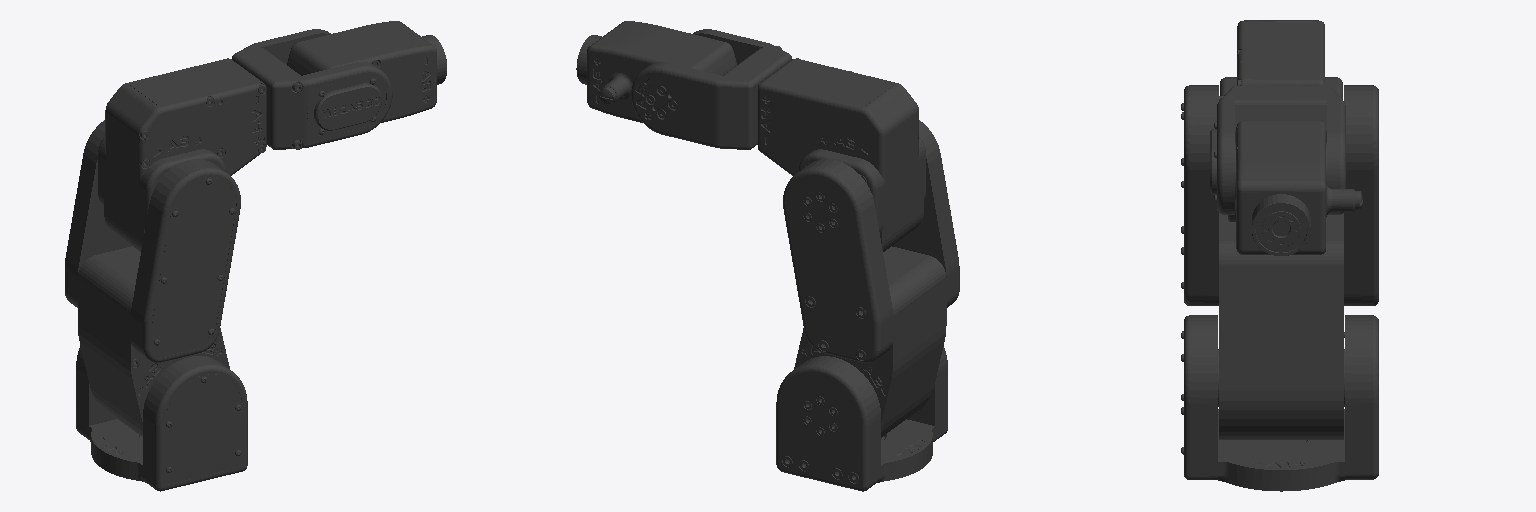
robot.urdf — meca_500_r3:
<?xml version="1.0" encoding="utf-8"?>

<robot name="meca_500_r3">

  <!-- Materials -->
  <material name="meca_black">
    <color rgba="0 0 0 1" />
  </material>
  <material name="meca_silver">
    <color rgba="0.3 0.3 0.3 1" />
  </material>

  <!-- world frame -->
  <!-- NOTE: defined as the location halfway between the 2 robots, which is consequently the x position of the -->
  <!-- middle scaffolding rail. Here I use -250 mm because I am defining robot1 in particular (left robot). -->
  <link name="world" />
  <joint name="meca_in_world" type="fixed" >
    <!-- Set base at world origin for sim alignment -->
    <origin xyz="0 0 0.0" rpy="0 0 0" />
    <parent link="world" />
    <child link="meca_base_link" />
    <axis xyz="0 0 1" />    
  </joint>

  <!-- Base link is the center of the robot's bottom plate -->
  <link name="meca_base_link">
    <visual>
      <origin xyz="0 0 0" rpy="0 0 0" />
      <geometry>
        <mesh filename="meshes/meca_500_r3_base.dae" />
      </geometry>
      <material name="meca_black"/>
    </visual>
    <collision>
      <origin xyz="0 0 0" rpy="0 0 0" />
      <geometry>
        <mesh filename="meshes/meca_500_r3_base_collision.stl" />
      </geometry>
    </collision>
  </link>

  <!-- Joint 1 -->
  <link name="meca_axis_1_link">
    <visual>
      <origin xyz="0 0 0" rpy="0 0 0" />
      <geometry>
        <mesh filename="meshes/meca_500_r3_j1.dae" />
      </geometry>
      <material name="meca_silver"/>
    </visual>
    <collision>
      <origin xyz="0 0 0" rpy="0 0 0" />
      <geometry>
        <mesh filename="meshes/meca_500_r3_j1_collision.stl" />
      </geometry>
    </collision>
  </link>

  <joint name="meca_axis_1_joint" type="revolute">
    <origin xyz="0.012498 0 0.091" rpy="0 0 0" />
    <parent link="meca_base_link" />
    <child link="meca_axis_1_link" />
    <axis xyz="0 0 1" />
    <limit effort="10.0" velocity="2.61799" lower="-3.05433" upper="3.05433" />
  </joint>

  <!-- Joint 2 -->
  <link name="meca_axis_2_link">
    <visual>
      <origin xyz="0 0 0" rpy="0 0 0" />
      <geometry>
        <mesh filename="meshes/meca_500_r3_j2.dae" />
      </geometry>
      <material name="meca_silver"/>
    </visual>
    <collision>
      <origin xyz="0 0 0" rpy="0 0 0" />
      <geometry>
        <mesh filename="meshes/meca_500_r3_j2_collision.stl" />
      </geometry>
    </collision>
  </link>

  <joint name="meca_axis_2_joint" type="revolute">
    <origin xyz="0 0 0.044" rpy="0 0 0" />
    <parent link="meca_axis_1_link" />
    <child link="meca_axis_2_link" />
    <axis xyz="0 1 0" />
    <limit effort="10.0" velocity="2.61799" lower="-1.22173048" upper="1.5708" />
  </joint>

  <!-- Joint 3 -->
  <link name="meca_axis_3_link">
    <visual>
      <origin xyz="0 0 0" rpy="0 0 0" />
      <geometry>
        <mesh filename="meshes/meca_500_r3_j3.dae" />
      </geometry>
      <material name="meca_silver"/>
    </visual>
    <collision>
      <origin xyz="0 0 0" rpy="0 0 0" />
      <geometry>
        <mesh filename="meshes/meca_500_r3_j3_collision.stl" />
      </geometry>
    </collision>
  </link>

  <joint name="meca_axis_3_joint" type="revolute">
    <origin xyz="0 0 0.135" rpy="0 0 0" />
    <parent link="meca_axis_2_link" />
    <child link="meca_axis_3_link" />
    <axis xyz="0 1 0" />
    <limit effort="10.0" velocity="3.14159" lower="-2.35619" upper="1.22173048" />
  </joint>

  <!-- Joint 4 -->
  <link name="meca_axis_4_link">
    <visual>
      <origin xyz="0 0 0" rpy="0 0 0" />
      <geometry>
        <mesh filename="meshes/meca_500_r3_j4.dae" />
      </geometry>
      <material name="meca_silver"/>
    </visual>
    <collision>
      <origin xyz="0 0 0" rpy="0 0 0" />
      <geometry>
        <mesh filename="meshes/meca_500_r3_j4_collision.stl" />
      </geometry>
    </collision>
  </link>

  <joint name="meca_axis_4_joint" type="revolute">
    <origin xyz="0 0 0.038" rpy="0 0 0" />
    <parent link="meca_axis_3_link" />
    <child link="meca_axis_4_link" />
    <axis xyz="1 0 0" />
    <limit effort="10.0" velocity="5.23599" lower="-2.96706" upper="2.96706" />
  </joint>

  <!-- Joint 5 -->
  <link name="meca_axis_5_link">
    <visual>
      <origin xyz="0 0 0" rpy="0 0 0" />
      <geometry>
        <mesh filename="meshes/meca_500_r3_j5.dae" />
      </geometry>
      <material name="meca_silver"/>
    </visual>
    <collision>
      <origin xyz="0 0 0" rpy="0 0 0" />
      <geometry>
        <mesh filename="meshes/meca_500_r3_j5_collision.stl" />
      </geometry>
    </collision>
  </link>

  <joint name="meca_axis_5_joint" type="revolute">
    <origin xyz="0.12 0 0" rpy="0 0 0" />
    <parent link="meca_axis_4_link" />
    <child link="meca_axis_5_link" />
    <axis xyz="0 1 0" />
    <limit effort="10.0" velocity="5.23599" lower="-2.00713" upper="2.00713" />
  </joint>

  <!-- Joint 6 -->
  <link name="meca_axis_6_link">
    <visual>
      <origin xyz="0 0 0" rpy="0 0 0" />
      <geometry>
        <mesh filename="meshes/meca_500_r3_j6.dae" />
      </geometry>
      <material name="meca_silver"/>
    </visual>
    <collision>
      <origin xyz="0 0 0" rpy="0 0 0" />
      <geometry>
        <mesh filename="meshes/meca_500_r3_j6_collision.stl" />
      </geometry>
    </collision>
  </link>
<!-- -0.361 -0.213 0.069 -->
  <joint name="meca_axis_6_joint" type="revolute">
    <origin xyz="0.07 0 0" rpy="0 0 0" />
    <parent link="meca_axis_5_link" />
    <child link="meca_axis_6_link" />
    <axis xyz="1 0 0" />
    <limit effort="10.0" velocity="8.72665" lower="-3.14159" upper="3.14159" />
  </joint>

  <!-- Gripper-->
  <link name="meca_gripper_link">
    <visual>
      <origin xyz="0 0 0" rpy="1.5708 0 0" />
      <geometry>
        <mesh filename="meshes/Gripper_origin_moved.stl" scale="0.001 0.001 0.001" />
      </geometry>
      <material name="meca_silver"/>
    </visual>
    <collision>
      <origin xyz="0 0 0" rpy="1.5708 0 0" />
      <geometry>
        <mesh filename="meshes/Gripper_origin_moved.stl" scale="0.001 0.001 0.001" />
      </geometry>
    </collision>
  </link>

  <joint name="meca_gripper_joint" type="fixed">
    <origin xyz="0 0 0" rpy="0 0 0" />
    <parent link="meca_axis_6_link" />
    <child link="meca_gripper_link" />
  </joint>
  
  <!-- Gripper Finger 1-->
  <link name="meca_gripper_finger1">
    <visual>
      <origin xyz="0 0 0" rpy="0 0 0" />
      <geometry>
        <mesh filename="meshes/Gripper_Finger_Origin_Centered_Nostep_5.5mm.STL" scale="0.001 0.001 0.001" />
      </geometry>
      <material name="meca_silver"/>
    </visual>
    <collision>
      <origin xyz="0 0 0" rpy="0 0 0" />
      <geometry>
        <mesh filename="meshes/Gripper_Finger_Origin_Centered_Nostep_5.5mm.STL" scale="0.001 0.001 0.001" />
      </geometry>
    </collision>
  </link>

  <joint name="meca_gripper_finger1_joint" type="fixed">
    <origin xyz=".01395 .0125 -.0170205" rpy="-1.570796 0 0" />
    <parent link="meca_gripper_link" />
    <child link="meca_gripper_finger1" />
  </joint>
  
  <!-- Gripper Finger 2-->
  <link name="meca_gripper_finger2">
    <visual>
      <origin xyz="0 0 0" rpy="0 0 0" />
      <geometry>
        <mesh filename="meshes/Gripper_Finger_Origin_Centered_Nostep_5.5mm.STL" scale="0.001 0.001 0.001" />
      </geometry>
      <material name="meca_silver"/>
    </visual>
    <collision>
      <origin xyz="0 0 0" rpy="0 0 0" />
      <geometry>
        <mesh filename="meshes/Gripper_Finger_Origin_Centered_Nostep_5.5mm.STL" scale="0.001 0.001 0.001" />
      </geometry>
    </collision>
  </link>

  <joint name="meca_gripper_finger2_joint" type="fixed">
    <origin xyz=".01395 -.0125 -.0170205" rpy="-1.570796 0 -3.141593" />
    <parent link="meca_gripper_link" />
    <child link="meca_gripper_finger2" />
  </joint>
</robot>

--- Facts derived from the render (not from the file) ---
The picture shows the robot from 3 angles, left to right: view 1: azimuth 30°, elevation 25°; view 2: azimuth 150°, elevation 25°; view 3: azimuth 270°, elevation 25°; orthographic projection.
Robot: meca_500_r3 — 11 links, 10 joints (6 revolute, 4 fixed); root link world; default pose: all joints at 0.
Links seen in each view (by area): view 1: meca_axis_2_link, meca_axis_3_link, meca_axis_1_link, meca_axis_4_link, meca_axis_5_link; view 2: meca_axis_2_link, meca_axis_3_link, meca_axis_1_link, meca_axis_4_link, meca_axis_5_link; view 3: meca_axis_2_link, meca_axis_1_link, meca_axis_5_link, meca_axis_4_link, meca_axis_3_link, meca_axis_6_link.
Boxes of the visible links, left/top/right/bottom form: meca_axis_2_link: left=65, top=120, right=240, bottom=436; meca_axis_3_link: left=98, top=58, right=266, bottom=251; meca_axis_1_link: left=76, top=346, right=247, bottom=491; meca_axis_4_link: left=232, top=29, right=392, bottom=149; meca_axis_5_link: left=287, top=21, right=446, bottom=122; meca_axis_2_link: left=783, top=120, right=959, bottom=437; meca_axis_3_link: left=758, top=58, right=925, bottom=251; meca_axis_1_link: left=776, top=347, right=947, bottom=491; meca_axis_4_link: left=631, top=29, right=791, bottom=149; meca_axis_5_link: left=576, top=21, right=736, bottom=122; meca_axis_2_link: left=1181, top=85, right=1378, bottom=439; meca_axis_1_link: left=1181, top=315, right=1378, bottom=491; meca_axis_5_link: left=1235, top=121, right=1362, bottom=255; meca_axis_4_link: left=1210, top=86, right=1345, bottom=214; meca_axis_3_link: left=1220, top=20, right=1342, bottom=221; meca_axis_6_link: left=1256, top=206, right=1306, bottom=251.
Size in the robot's own frame: 0.2325 by 0.1014 by 0.24 metres.
6 mesh visuals loaded from 9 distinct referenced files (6 Collada DAE); not drawn: 4 (reference not matched to a file when rendering).